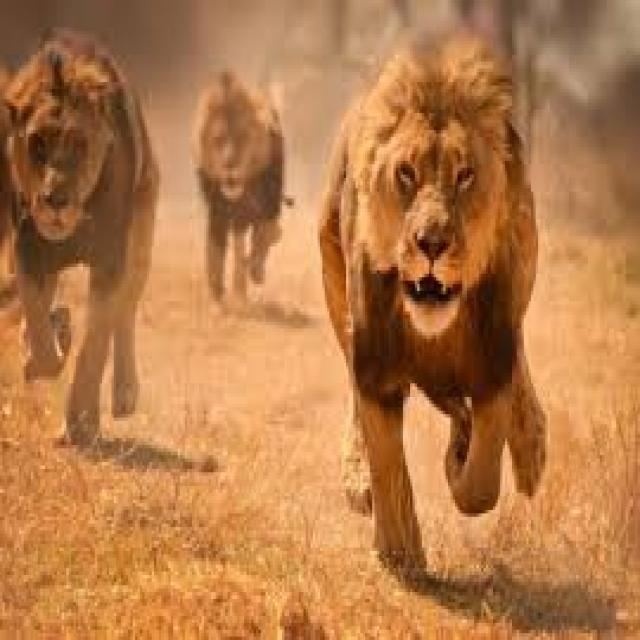Lion: (315, 28, 548, 572), (0, 36, 159, 460), (190, 65, 292, 311)
